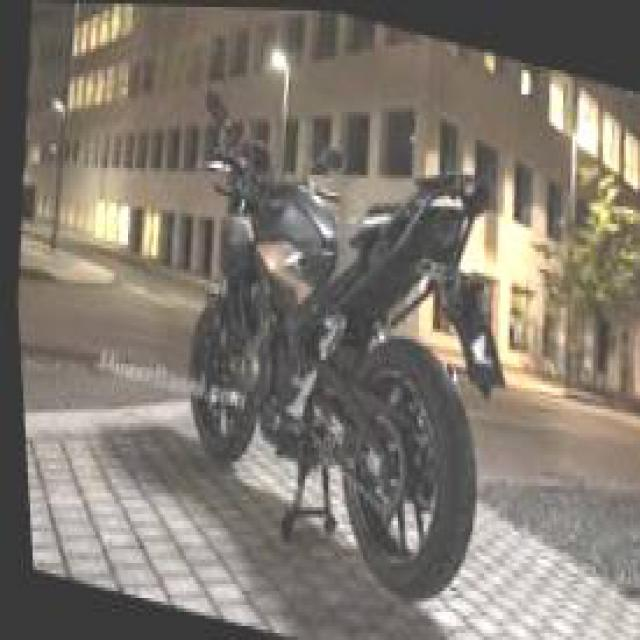CB500F: (151, 96, 510, 617)
